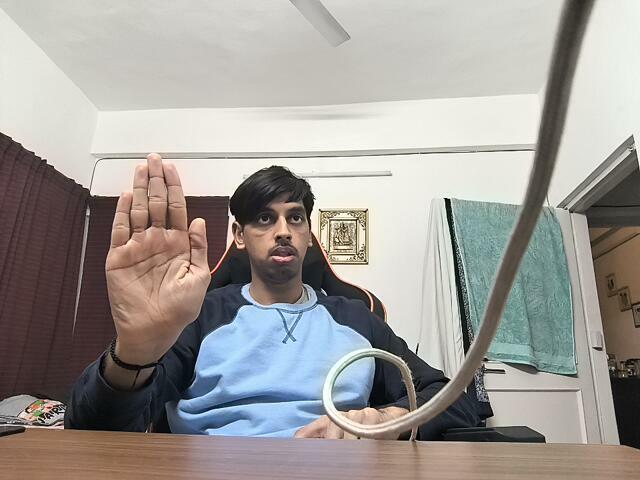STOP: (98, 151, 218, 344)
